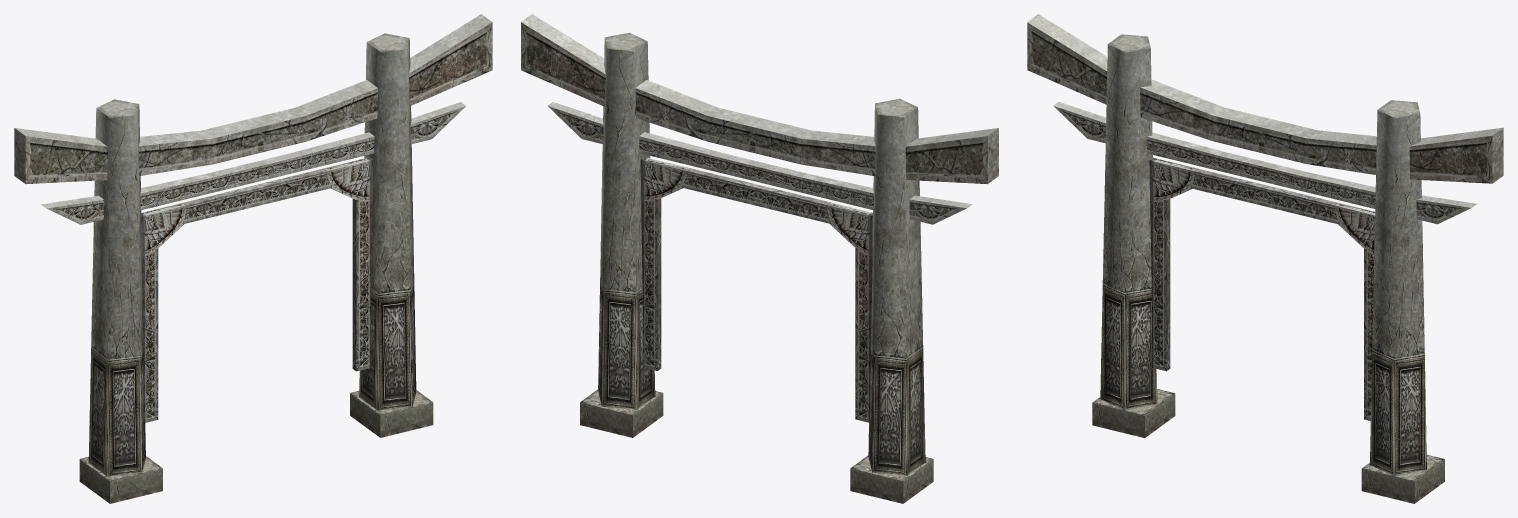
The model's file is warpgate03.fbx.
3 renders of one model, left to right at view 1: azimuth 30°, elevation 25°; view 2: azimuth 150°, elevation 25°; view 3: azimuth 330°, elevation 25°, orthographic.
Parts seen in each view (by area): view 1: gate03; view 2: gate03; view 3: gate03.
Boxes of the visible parts, bbox=[...] form: gate03: bbox=[14, 14, 492, 503]; gate03: bbox=[521, 14, 998, 503]; gate03: bbox=[1027, 14, 1503, 503].
Size of the model in its own units: 9.4 by 7.29 by 1.07.
